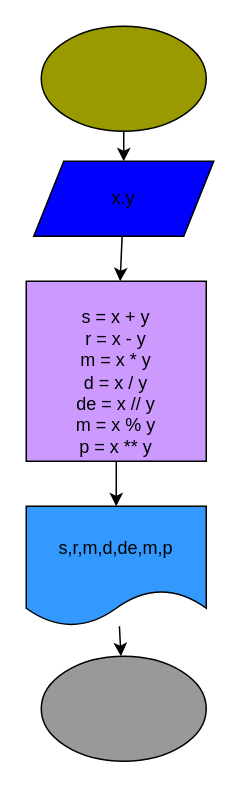
The diagram is 240 pixels wide and 788 high, and some of its shapes have lost their labels. Each missing label, with the centre of its shape:
"FIN" goes at (123,708).
"Inicio" goes at (123,78).
